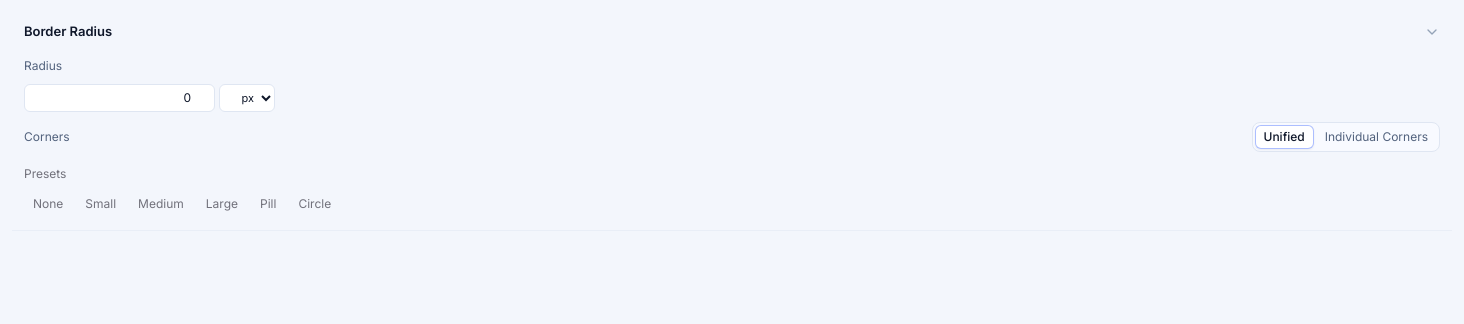
Scenario: InspectorBorderRadiusSection › switching to Individual Corners reveals the visual corner selector
The image size is (1464, 324).
Step 1. Click the button "Individual Corners" → coordinates (1376, 136), box top-left (1316, 124), bottom-right (1437, 148)
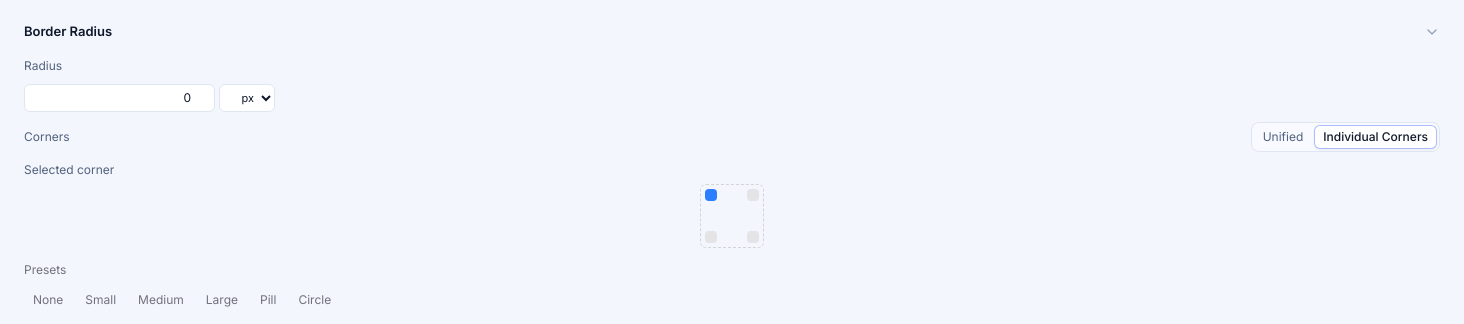
Result: the element named "Border radius corner" is shown at top-left (700, 184), bottom-right (764, 248)
